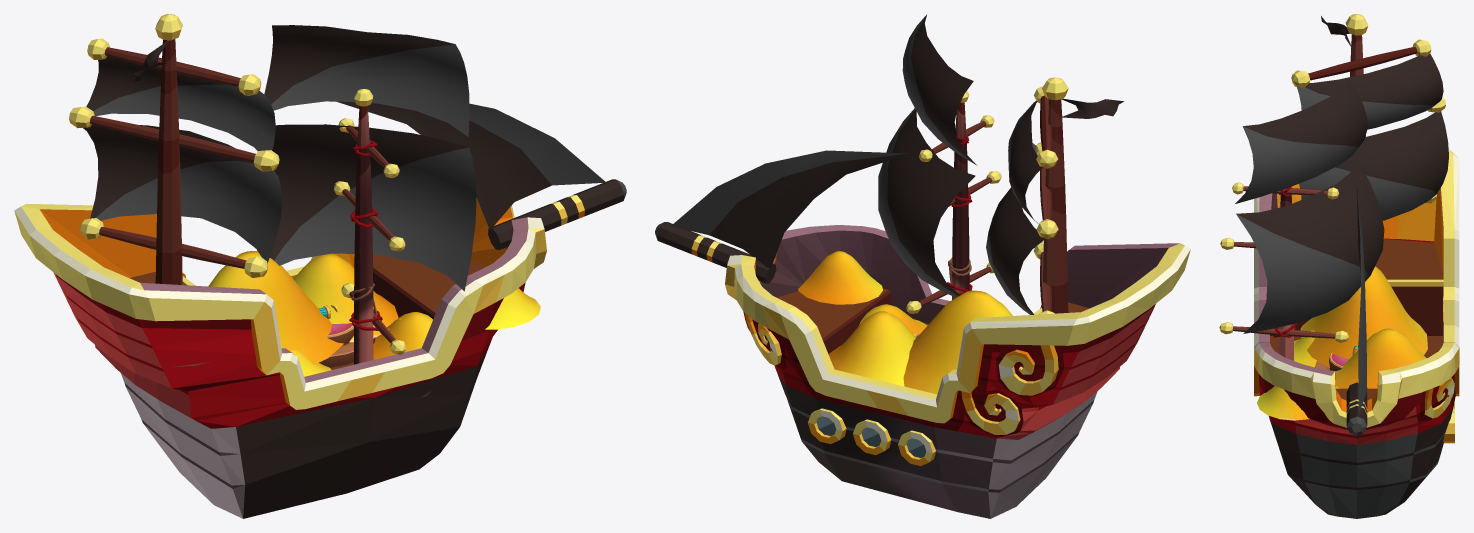
The model's file is ShipGRP.fbx.
3 renders of one model, left to right at view 1: azimuth 30°, elevation 25°; view 2: azimuth 150°, elevation 25°; view 3: azimuth 270°, elevation 25°, orthographic. The views are drawn at different scales.
Parts seen in each view (by area): view 1: ShipBaseMDL, SailsMDL_01, RailMDL_01, SailsMDL_02, FlagPoleMDL_02, CoinPileMDL (×4), SailsMDL_03, FlagPoleMDL_04, ShipFloorMDL, FlagPoleMDL_03; view 2: ShipBaseMDL, RailMDL_01, SailsMDL_01, CoinPileMDL (×4), SailsMDL_03, SailsMDL_02, FlagPoleMDL_02, RailMDL_02, FlagPoleMDL_04, ShipFloorMDL, FlagPoleMDL_03, ShipDecorMDL_02 (+5 smaller); view 3: SailsMDL_01, ShipBaseMDL, RailMDL_01, SailsMDL_02, CoinPileMDL (×4), ShipFloorMDL, FlagPoleMDL_02, SailsMDL_03, FlagPoleMDL_04, FlagPoleMDL_03, FlagPoleMDL_01, ShipDecorMDL_01 (+1 smaller).
Boxes of the visible parts, left/top/right/bottom form: ShipBaseMDL: left=53, top=272, right=525, bottom=518; SailsMDL_01: left=264, top=25, right=476, bottom=291; RailMDL_01: left=14, top=198, right=546, bottom=409; SailsMDL_02: left=83, top=41, right=282, bottom=262; FlagPoleMDL_02: left=69, top=14, right=279, bottom=284; CoinPileMDL (×4): left=208, top=251, right=540, bottom=364; SailsMDL_03: left=337, top=101, right=605, bottom=229; FlagPoleMDL_04: left=333, top=89, right=405, bottom=364; ShipFloorMDL: left=130, top=254, right=487, bottom=369; FlagPoleMDL_03: left=488, top=179, right=626, bottom=249; ShipBaseMDL: left=743, top=304, right=1155, bottom=518; RailMDL_01: left=725, top=225, right=1190, bottom=423; SailsMDL_01: left=878, top=14, right=977, bottom=297; CoinPileMDL (×4): left=798, top=251, right=1012, bottom=394; SailsMDL_03: left=671, top=150, right=909, bottom=269; SailsMDL_02: left=986, top=98, right=1124, bottom=314; FlagPoleMDL_02: left=1033, top=77, right=1068, bottom=314; RailMDL_02: left=815, top=369, right=943, bottom=423; FlagPoleMDL_04: left=918, top=91, right=1001, bottom=299; ShipFloorMDL: left=777, top=288, right=1089, bottom=353; FlagPoleMDL_03: left=655, top=222, right=776, bottom=283; ShipDecorMDL_02: left=998, top=345, right=1058, bottom=395; SailsMDL_01: left=1235, top=79, right=1384, bottom=333; ShipBaseMDL: left=1259, top=238, right=1455, bottom=518; RailMDL_01: left=1254, top=150, right=1459, bottom=427; SailsMDL_02: left=1296, top=16, right=1448, bottom=220; CoinPileMDL (×4): left=1257, top=266, right=1427, bottom=420; ShipFloorMDL: left=1270, top=239, right=1443, bottom=400; FlagPoleMDL_02: left=1291, top=14, right=1445, bottom=203; SailsMDL_03: left=1357, top=187, right=1367, bottom=414; FlagPoleMDL_04: left=1220, top=182, right=1338, bottom=360; FlagPoleMDL_03: left=1346, top=382, right=1367, bottom=435; FlagPoleMDL_01: left=1219, top=322, right=1349, bottom=342; ShipDecorMDL_01: left=1424, top=378, right=1454, bottom=418.
Bounding box in the file's own units: 52.62 × 44.79 × 23.5.
